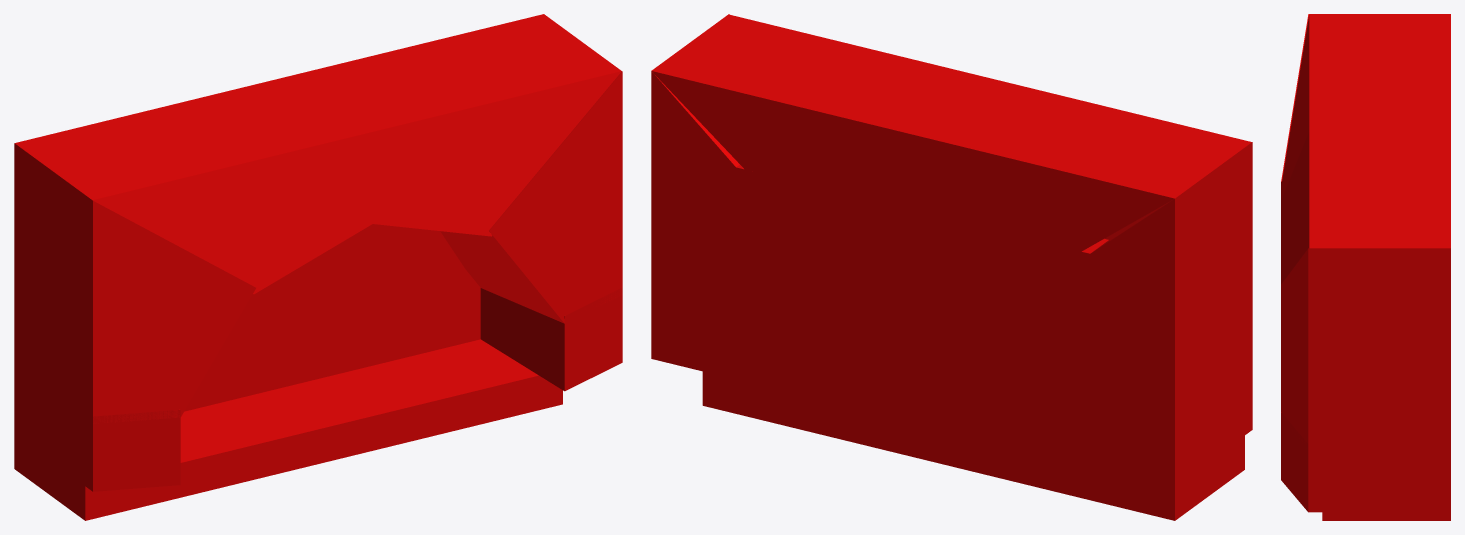
Rendered from SM_Env_StormCanal_Flat_Hole_01_Collision.fbx.
3 views of the same model, side by side, from view 1: azimuth 30°, elevation 25°; view 2: azimuth 150°, elevation 25°; view 3: azimuth 270°, elevation 25° (orthographic). The views are drawn at different scales.
Parts seen in each view (by area): view 1: SM_Env_StormCanal_Flat_Hole_01_Collision; view 2: SM_Env_StormCanal_Flat_Hole_01_Collision; view 3: SM_Env_StormCanal_Flat_Hole_01_Collision.
Part boxes in pixels (x1,y1,x2,y2): SM_Env_StormCanal_Flat_Hole_01_Collision: [14, 14, 622, 520]; SM_Env_StormCanal_Flat_Hole_01_Collision: [651, 14, 1252, 520]; SM_Env_StormCanal_Flat_Hole_01_Collision: [1281, 14, 1450, 520].
Bounding box in the file's own units: 495 × 291 × 152.
